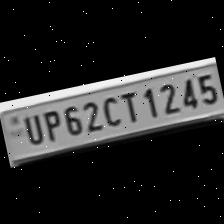1: (135, 84, 159, 121)
2: (152, 78, 182, 116), (76, 96, 102, 134)
4: (172, 74, 199, 111)
5: (191, 68, 219, 108)
6: (56, 101, 83, 139)
C: (94, 92, 122, 130)
P: (36, 106, 62, 143)
T: (116, 88, 142, 125)
U: (17, 110, 44, 147)
